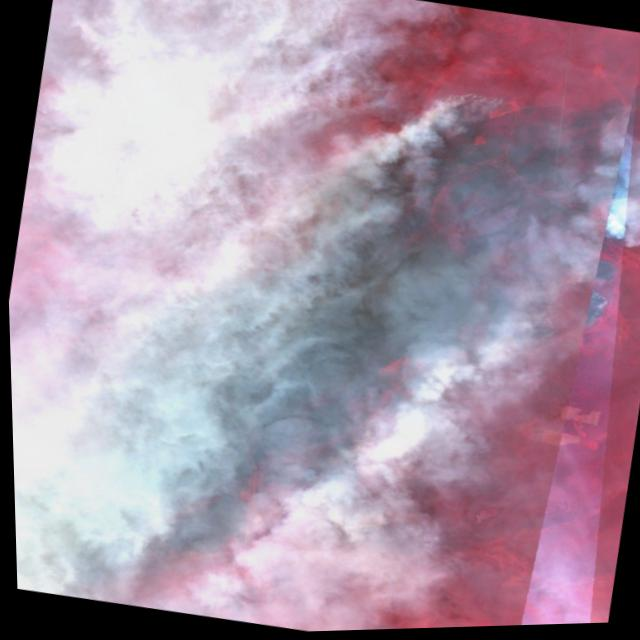fire: (1, 8, 640, 640)
